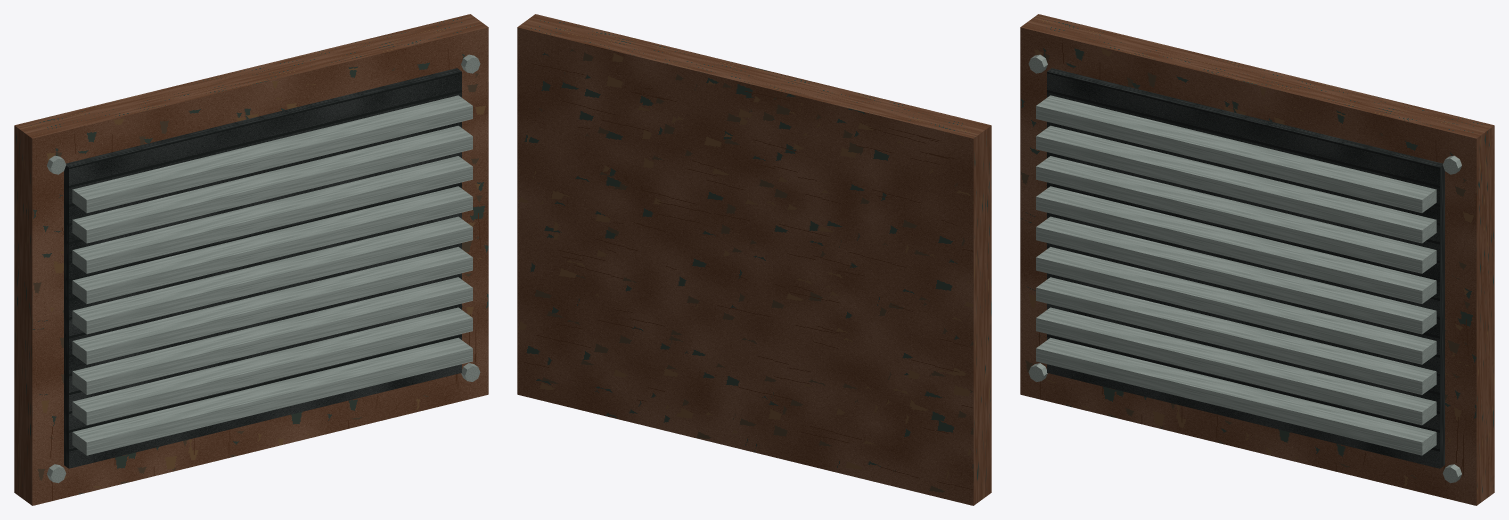
Rendered from VentCover.glb.
3 views of the same model, side by side, from view 1: azimuth 30°, elevation 25°; view 2: azimuth 150°, elevation 25°; view 3: azimuth 330°, elevation 25° (orthographic).
Visible parts, largest first — view 1: VentCover; view 2: VentCover; view 3: VentCover.
Part boxes in pixels (bbox=[...]): VentCover: bbox=[14, 14, 488, 505]; VentCover: bbox=[517, 14, 991, 505]; VentCover: bbox=[1020, 14, 1494, 505].
Bounding box in the file's own units: 0.65 × 0.5 × 0.0925.
3 materials, 3 textured.
